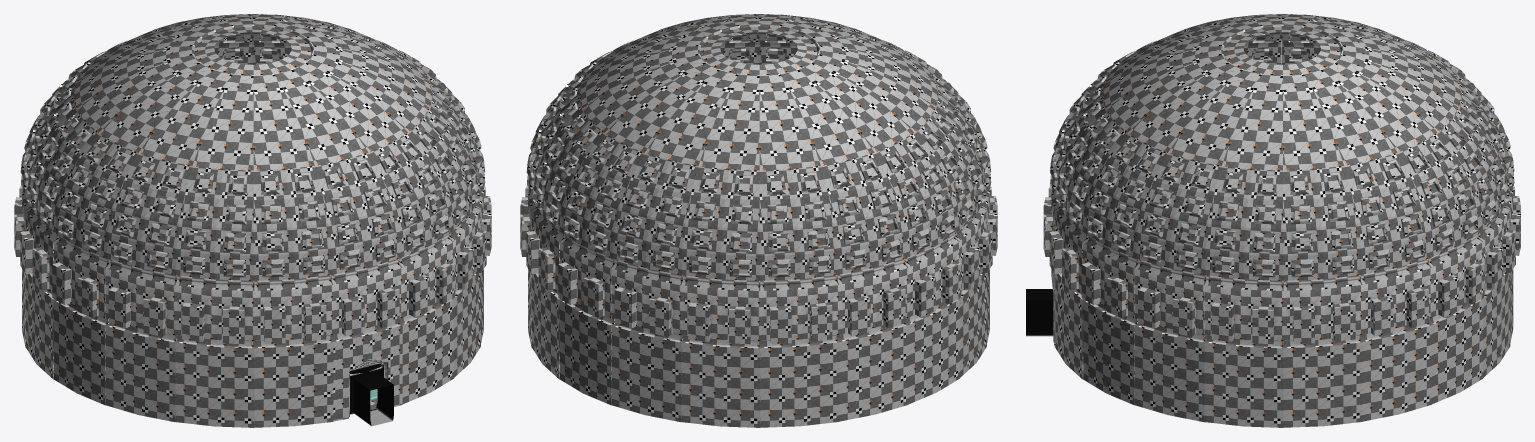
The model's file is Spawn.obj.
3 views of the same model, side by side, from view 1: azimuth 30°, elevation 25°; view 2: azimuth 150°, elevation 25°; view 3: azimuth 270°, elevation 25° (orthographic).
Visible parts, largest first — view 1: Spawn_Dach_Segment002, Spawn_Dach_Segment003, Spawn_Dach_Segment004, Spawn_Dach_Segment001, Spawn_Dach_Segment005, Spawn_Dach_Segment018, Spawn_Dach_Segment006, Spawn_Dach_Segment017, Spawn_Wand_Standart_Segment001, Spawn_Wand_Standart_Segment002, object 72, Spawn_Wand_Standart_Segment003 (+14 smaller); view 2: Spawn_Dach_Segment008, Spawn_Dach_Segment009, Spawn_Dach_Segment010, Spawn_Dach_Segment007, Spawn_Dach_Segment011, Spawn_Dach_Segment006, Spawn_Dach_Segment012, Spawn_Dach_Segment005, Spawn_Wand_Standart_Segment007, Spawn_Wand_Standart_Segment008, Spawn_Wand_Standart_Segment009, Spawn_Wand_Standart_Segment006 (+14 smaller); view 3: Spawn_Dach_Segment015, Spawn_Dach_Segment014, Spawn_Dach_Segment016, Spawn_Dach_Segment013, Spawn_Dach_Segment017, Spawn_Dach_Segment012, Spawn_Dach_Segment018, Spawn_Dach_Segment011, Spawn_Wand_Standart_Segment013, Spawn_Wand_Standart_Segment014, Spawn_Wand_Standart_Segment012, Spawn_Wand_Standart_Segment015 (+15 smaller).
Part boxes in pixels (x1,y1,x2,y2): Spawn_Dach_Segment002: (253,63,333,348); Spawn_Dach_Segment003: (175,64,254,348); Spawn_Dach_Segment004: (105,61,239,342); Spawn_Dach_Segment001: (267,61,402,341); Spawn_Dach_Segment005: (52,57,228,325); Spawn_Dach_Segment018: (278,56,455,324); Spawn_Dach_Segment006: (20,51,219,299); Spawn_Dach_Segment017: (287,51,486,298); Spawn_Wand_Standart_Segment001: (253,341,333,427); Spawn_Wand_Standart_Segment002: (175,342,254,427); object 72: (333,325,402,426); Spawn_Wand_Standart_Segment003: (105,326,175,421); Spawn_Dach_Segment008: (759,63,839,348); Spawn_Dach_Segment009: (681,64,760,348); Spawn_Dach_Segment010: (611,61,745,342); Spawn_Dach_Segment007: (773,61,908,341); Spawn_Dach_Segment011: (558,57,734,325); Spawn_Dach_Segment006: (784,56,961,324); Spawn_Dach_Segment012: (526,51,725,299); Spawn_Dach_Segment005: (793,51,992,298); Spawn_Wand_Standart_Segment007: (759,341,839,427); Spawn_Wand_Standart_Segment008: (681,342,760,427); Spawn_Wand_Standart_Segment009: (611,326,681,421); Spawn_Wand_Standart_Segment006: (839,325,908,421); Spawn_Dach_Segment015: (1204,64,1283,348); Spawn_Dach_Segment014: (1283,63,1362,348); Spawn_Dach_Segment016: (1135,61,1269,342); Spawn_Dach_Segment013: (1296,61,1431,341); Spawn_Dach_Segment017: (1081,57,1257,325); Spawn_Dach_Segment012: (1308,56,1484,324); Spawn_Dach_Segment018: (1049,51,1248,299); Spawn_Dach_Segment011: (1316,51,1515,298); Spawn_Wand_Standart_Segment013: (1283,341,1362,427); Spawn_Wand_Standart_Segment014: (1204,342,1283,427); Spawn_Wand_Standart_Segment012: (1362,325,1431,421); Spawn_Wand_Standart_Segment015: (1135,326,1204,422).
Size of the model in its own units: 37.52 by 24.42 by 38.86.
2 materials, 1 textured.
